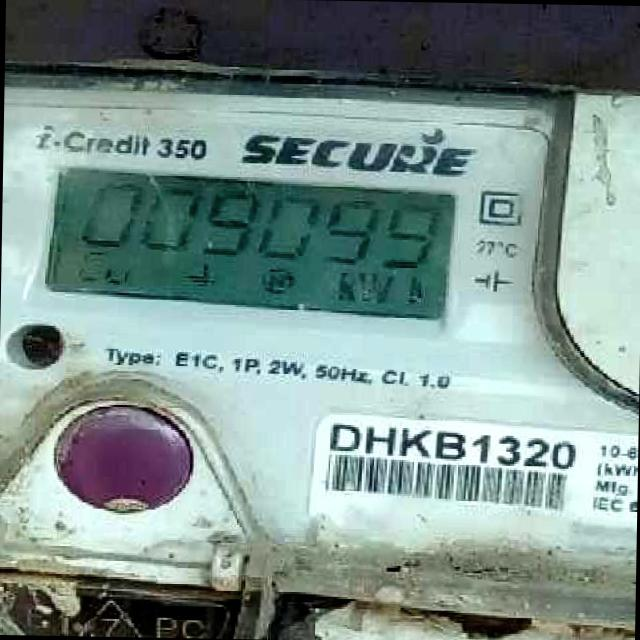LCD: (31, 158, 462, 341)
